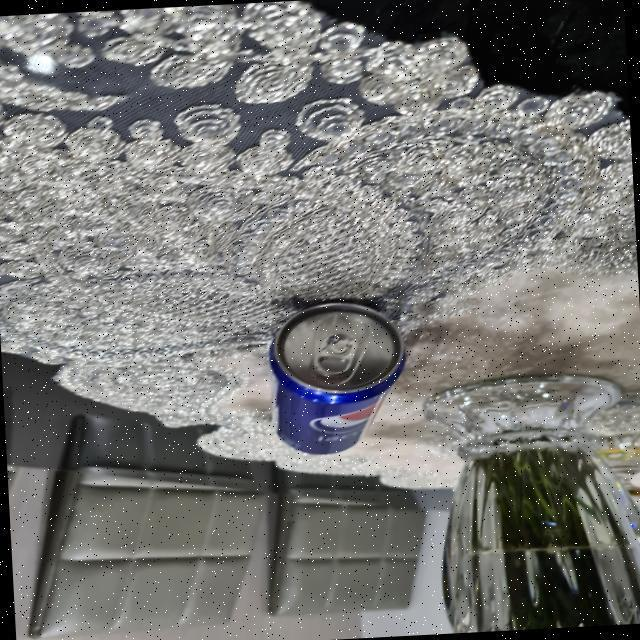can: (258, 295, 416, 465)
